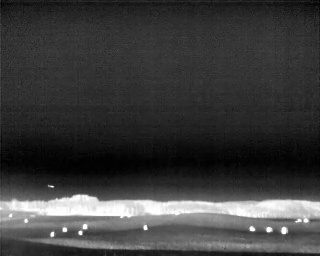AIRPLANE: (46, 182, 56, 190)
